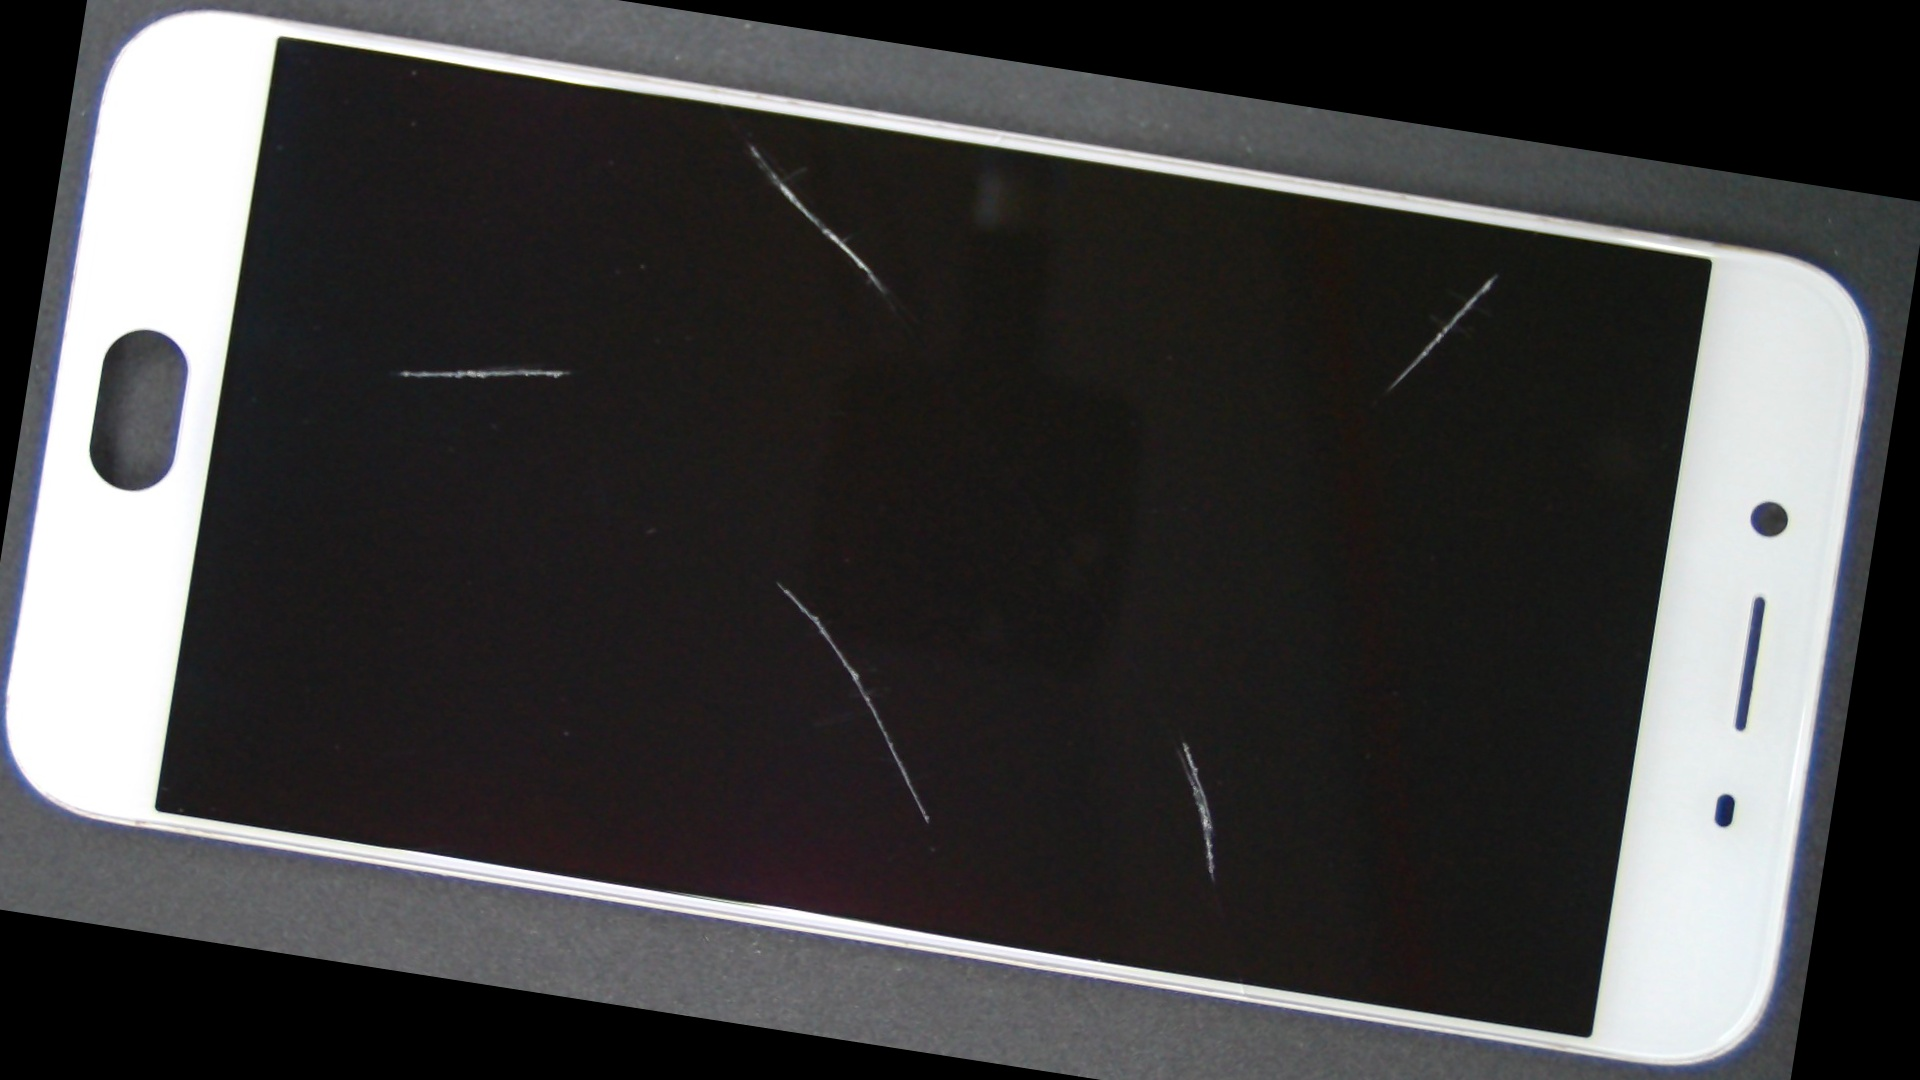oil: (542, 331, 1824, 1080), (355, 251, 1203, 915), (778, 95, 1916, 402), (278, 144, 862, 595), (406, 30, 1092, 252)
